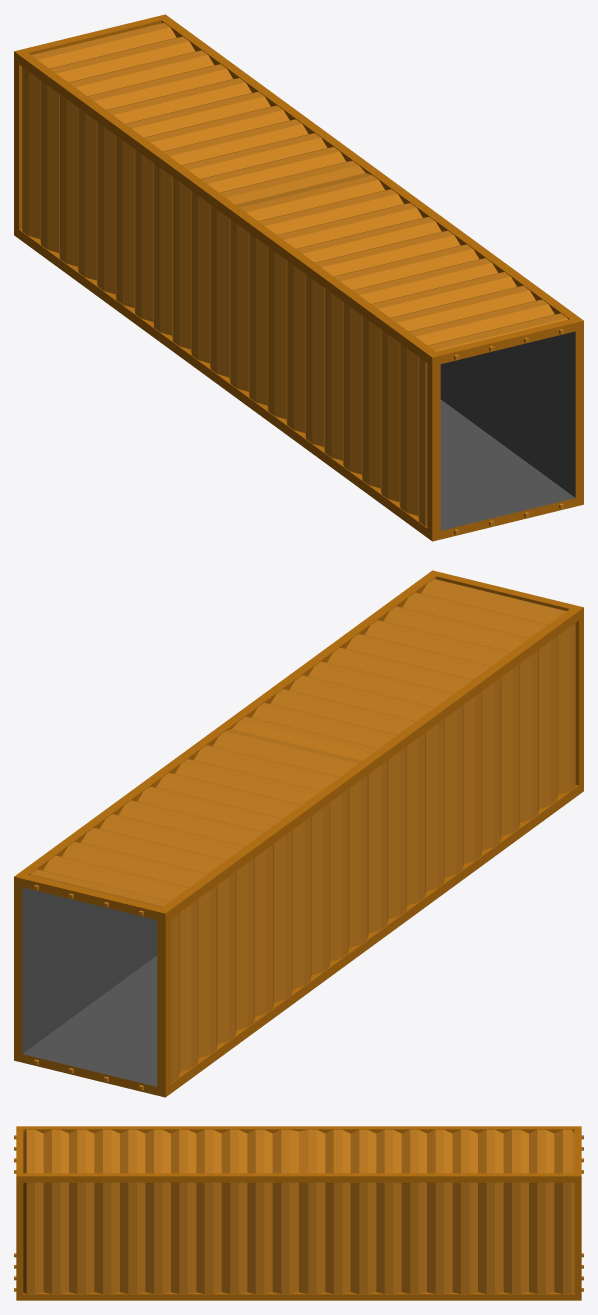
The model's file is SM_Props_ShippingContainer_05.glb.
The picture shows the model from 3 angles, top to bottom: view 1: azimuth 30°, elevation 25°; view 2: azimuth 150°, elevation 25°; view 3: azimuth 270°, elevation 25°; orthographic projection. The views are drawn at different scales.
Visible parts, largest first — view 1: SM_Props_ShippingContainer_05; view 2: SM_Props_ShippingContainer_05; view 3: SM_Props_ShippingContainer_05.
Part boxes in pixels (box(x1,y1,x2,y2)): SM_Props_ShippingContainer_05: box(14, 14, 583, 541); SM_Props_ShippingContainer_05: box(14, 570, 583, 1097); SM_Props_ShippingContainer_05: box(14, 1126, 583, 1300).
Bounding box in the file's own units: 2.5 × 2.9 × 12.05.
1 material, 1 textured.
